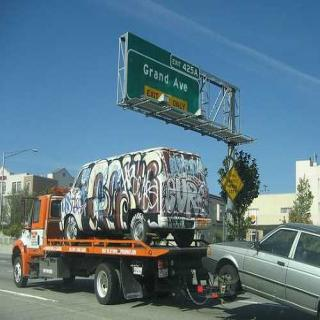Towing_truck: (11, 146, 238, 308)
